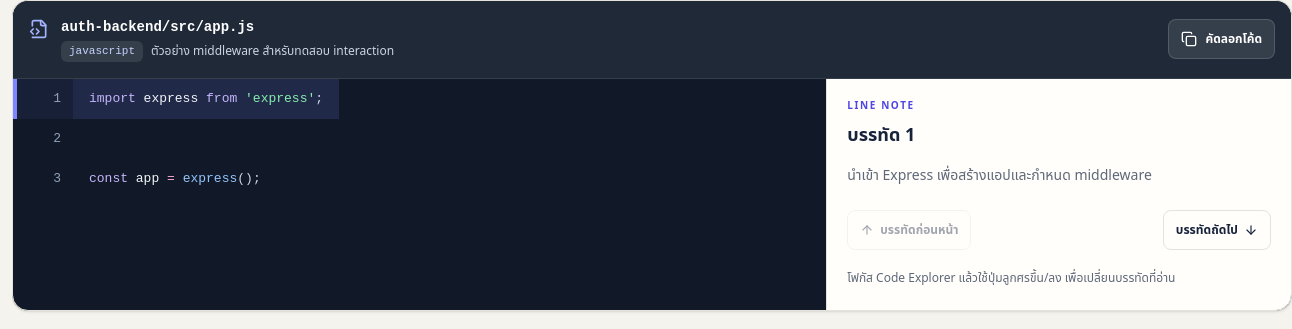
Test: CodeExplorer › updates the polite live detail panel through buttons and previous/next controls
Expected: the element that starts with "LINE NOTE" is shown, [847,98,1152,186]
Click the button with aria-label "บรรทัด 3": x=145, y=178 [13,158,277,198]
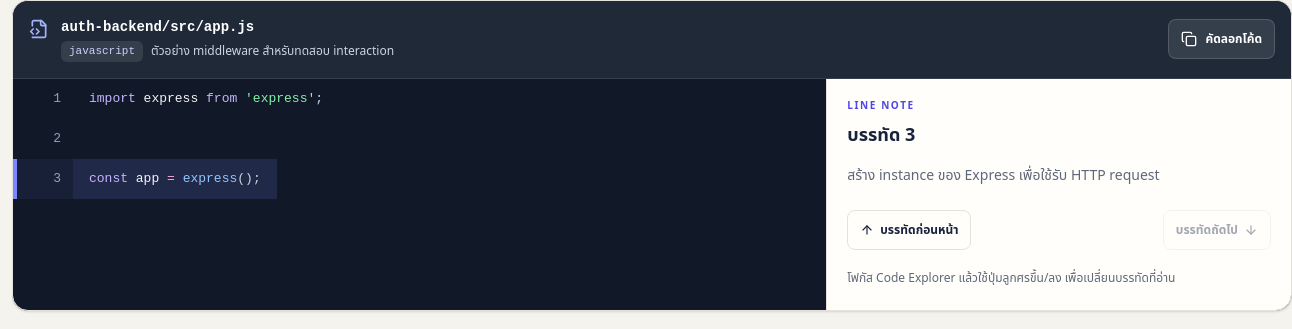
Expected: the heading "บรรทัด 3" is shown, [847,122,915,148]
Expected: the text "สร้าง instance ของ Express เพื่อใช้รับ HTTP request" is shown, [847,164,1160,186]
Click the button "บรรทัดก่อนหน้า": x=909, y=230 [847,210,972,250]
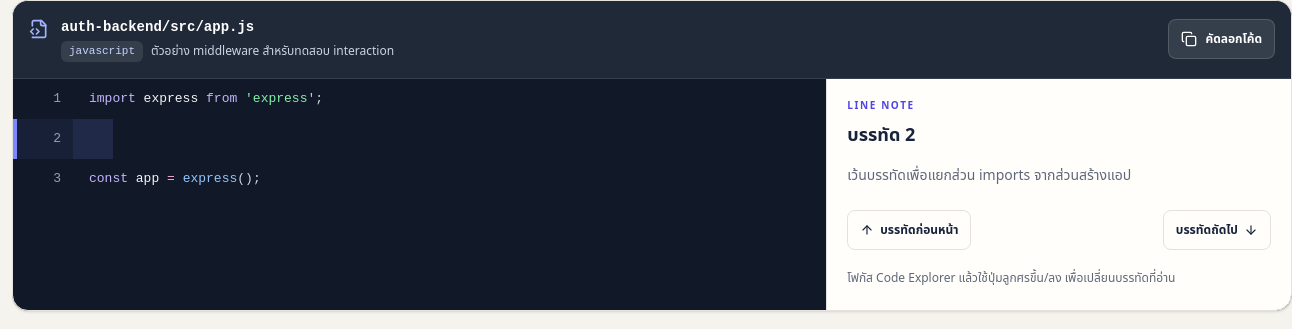
Expected: the text "เว้นบรรทัดเพื่อแยกส่วน imports จากส่วนสร้างแอป" is shown, [847,164,1131,186]
Click the button "บรรทัดถัดไป": x=1217, y=230 [1163,210,1271,250]
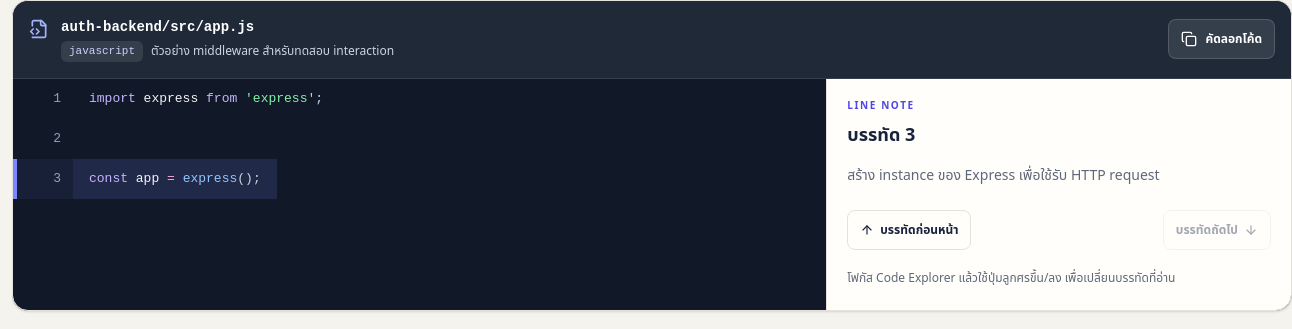
Expected: the text "สร้าง instance ของ Express เพื่อใช้รับ HTTP request" is shown, [847,164,1160,186]
Expected: the button "บรรทัดถัดไป" is disabled, [1163,210,1271,250]
